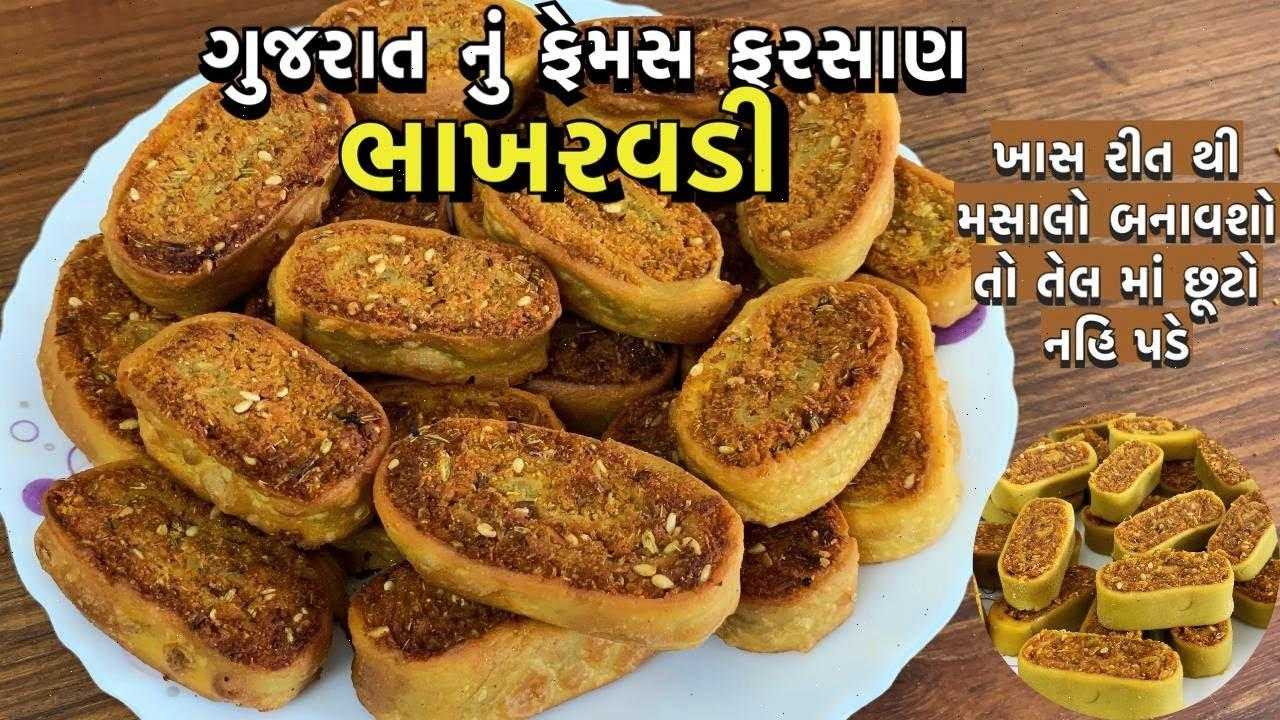bhakarwadi: (43, 195, 935, 717), (1014, 453, 1256, 702)
